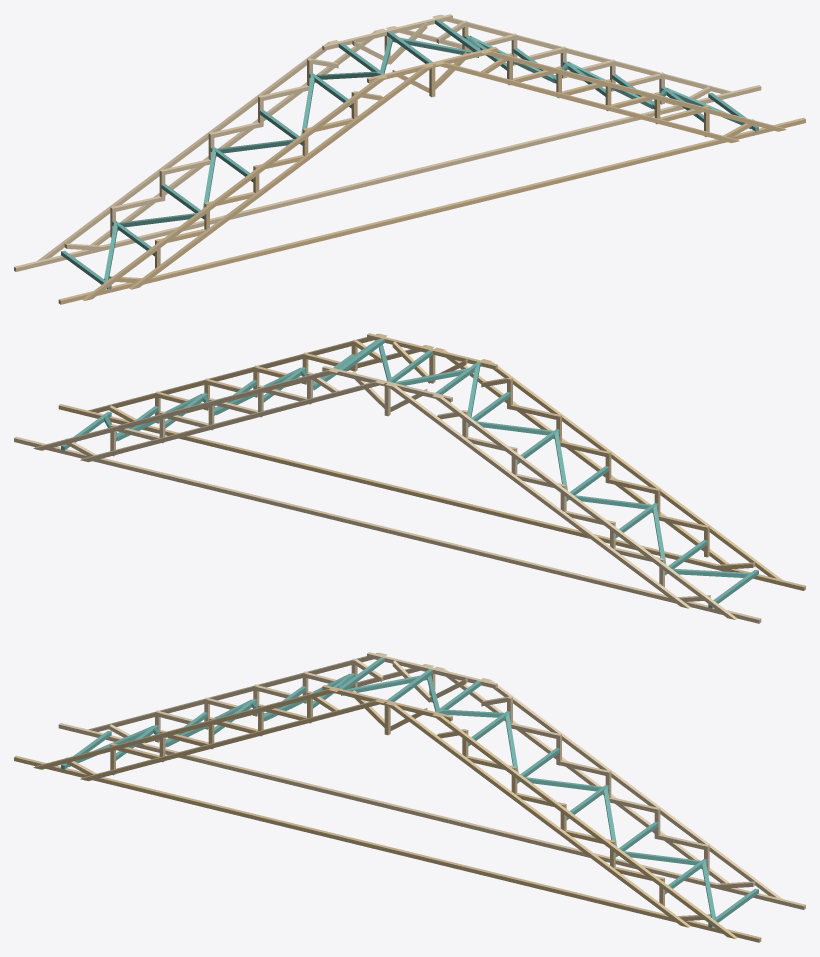
The model's file is bridge-lattice-model.glb.
3 views of the same model, one above another, from view 1: azimuth 30°, elevation 25°; view 2: azimuth 150°, elevation 25°; view 3: azimuth 330°, elevation 25° (orthographic).
Parts seen in each view (by area): view 1: N_A, P_A, N_CL2, N_CL1, P_CL1, N_CR1, N_CR2, P_CR1, P_CL2, P_B, N_B; view 2: P_A, N_A, P_CL2, P_CL1, N_CL1, P_CR1, P_CR2, N_CR1, N_CL2, N_B, P_B; view 3: N_A, P_A, N_CR2, N_CR1, P_CR1, N_CL1, N_CL2, P_CL1, P_CR2, P_B, N_B.
Boxes of the visible parts, left/top/right/bottom form: N_A: left=58, top=117, right=805, bottom=304; P_A: left=14, top=85, right=761, bottom=271; N_CL2: left=129, top=64, right=434, bottom=289; N_CL1: left=82, top=75, right=387, bottom=300; P_CL1: left=37, top=40, right=338, bottom=260; N_CR1: left=481, top=50, right=786, bottom=131; N_CR2: left=434, top=62, right=739, bottom=143; P_CR1: left=432, top=14, right=731, bottom=93; P_CL2: left=90, top=28, right=384, bottom=245; P_B: left=322, top=14, right=452, bottom=50; N_B: left=367, top=47, right=497, bottom=83; P_A: left=14, top=436, right=761, bottom=623; N_A: left=58, top=404, right=805, bottom=590; P_CL2: left=385, top=383, right=690, bottom=608; P_CL1: left=432, top=394, right=737, bottom=619; N_CL1: left=481, top=359, right=782, bottom=579; P_CR1: left=33, top=369, right=338, bottom=450; P_CR2: left=80, top=381, right=385, bottom=462; N_CR1: left=88, top=333, right=387, bottom=412; N_CL2: left=435, top=347, right=729, bottom=564; N_B: left=367, top=333, right=497, bottom=369; P_B: left=322, top=366, right=452, bottom=402; N_A: left=14, top=755, right=761, bottom=942; P_A: left=58, top=723, right=805, bottom=909; N_CR2: left=385, top=702, right=690, bottom=927; N_CR1: left=432, top=713, right=737, bottom=938; P_CR1: left=481, top=678, right=782, bottom=898; N_CL1: left=33, top=688, right=338, bottom=769; N_CL2: left=80, top=700, right=385, bottom=781; P_CL1: left=88, top=652, right=387, bottom=731; P_CR2: left=435, top=666, right=729, bottom=883; P_B: left=367, top=652, right=497, bottom=688; N_B: left=322, top=685, right=452, bottom=721.
Bounding box in the file's own units: 0.51 × 0.098 × 0.0605.
